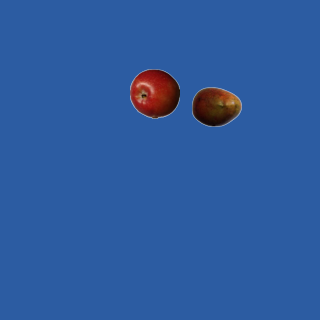Apple Braeburn: (129, 68, 179, 118)
Mango Red: (191, 81, 241, 131)
